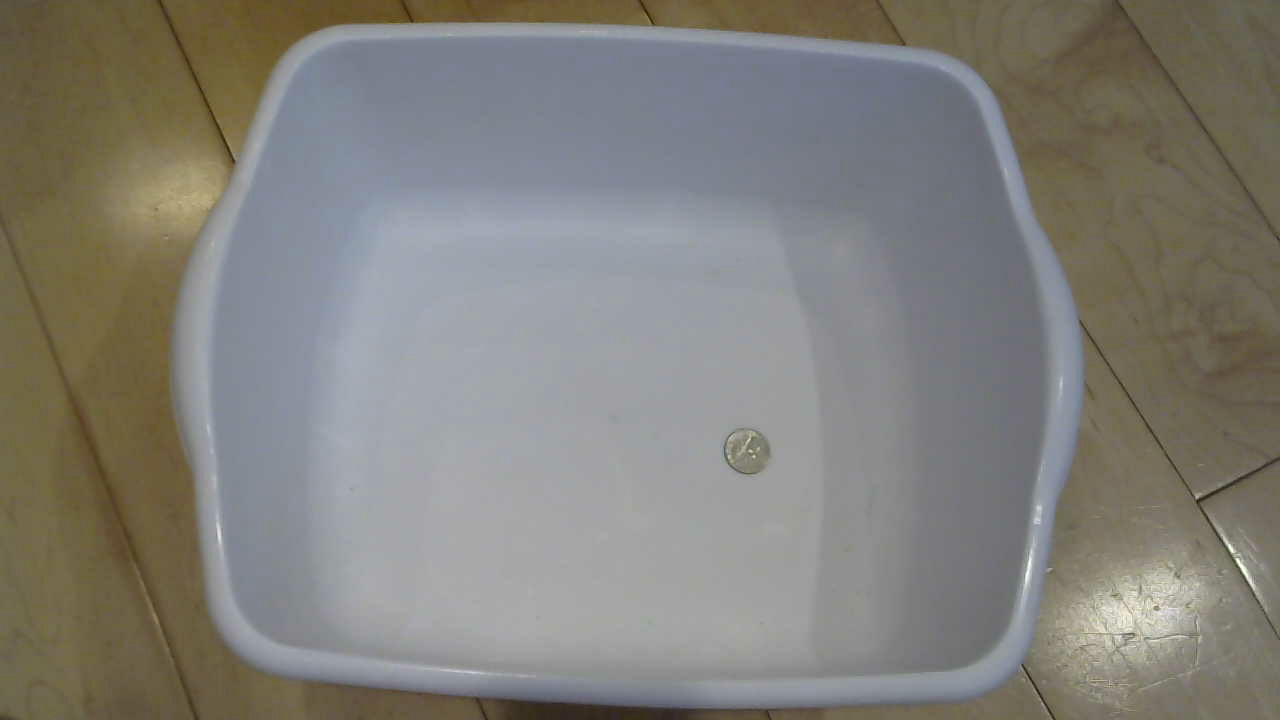coin: (717, 426, 782, 485)
